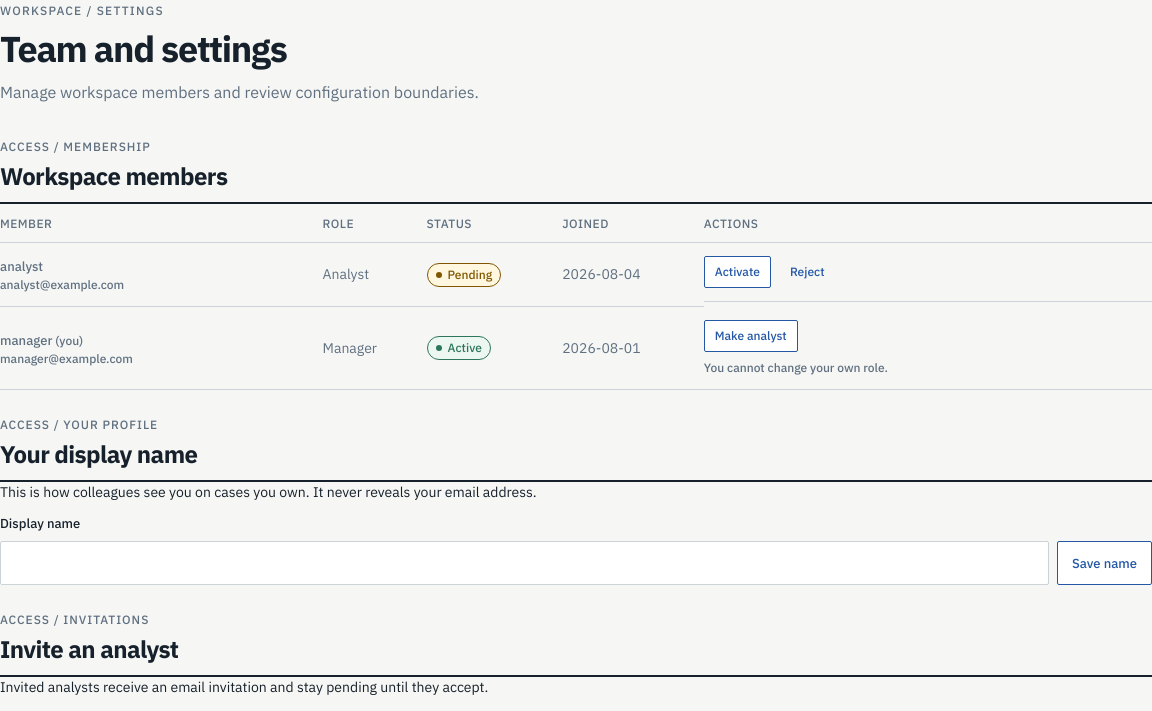
Scenario: member actions › activates a pending member and announces it
The image size is (1152, 711).
expect the table named "workspace members" is shown: met, box left=0, top=204, right=1151, bottom=390
Click the button "Activate" at (737, 272), box left=704, top=256, right=771, bottom=288
(page scrolled)
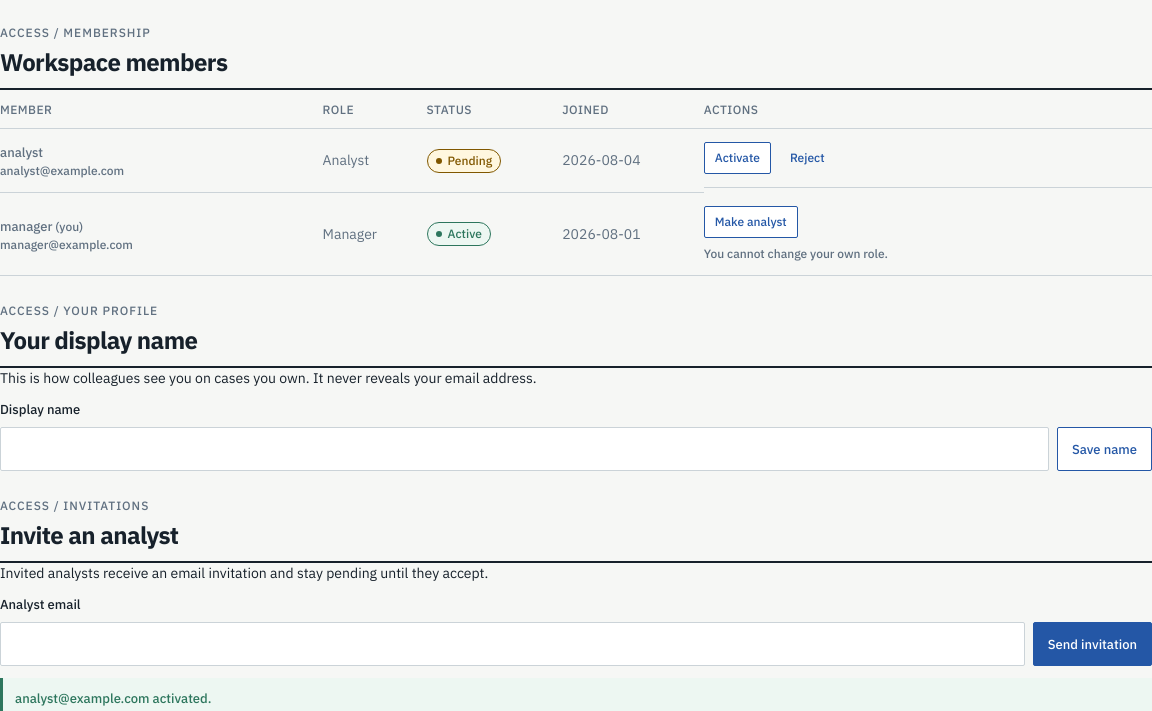
expect the message shows "activated": met, box left=15, top=690, right=212, bottom=707
